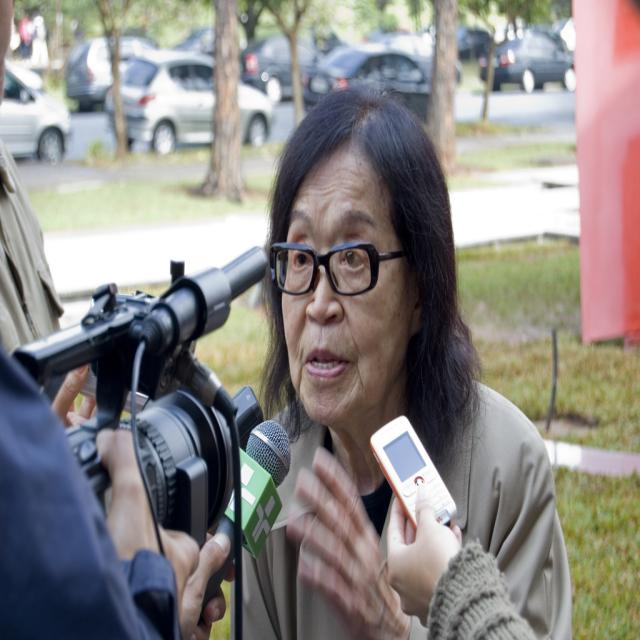Mobile-phone: (366, 421, 462, 552)
